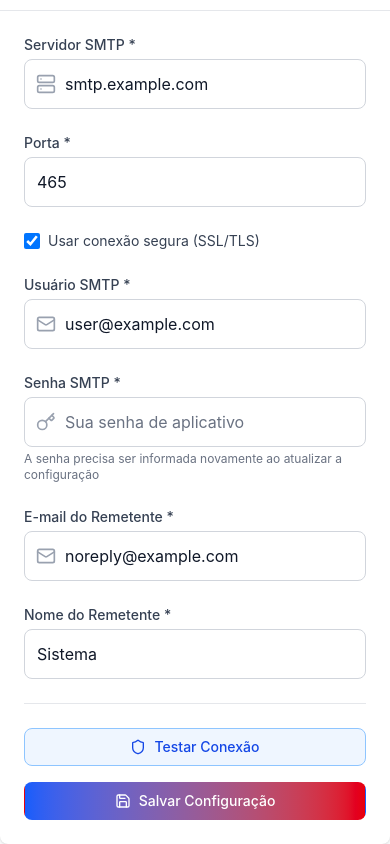
Test: SmtpConfig page › shows validation error when password missing
(page scrolled)
Click the button "Salvar Configuração".
click(195, 801)  # box [24, 782, 366, 820]
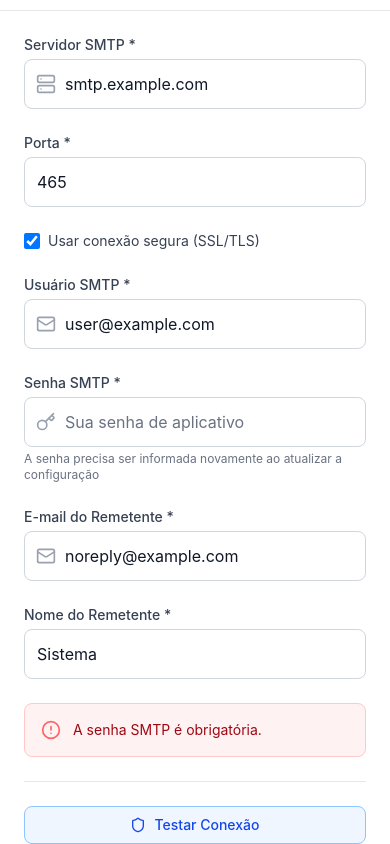
expect the text "A senha SMTP é obrigatória." is shown: met, box [73, 720, 262, 740]
